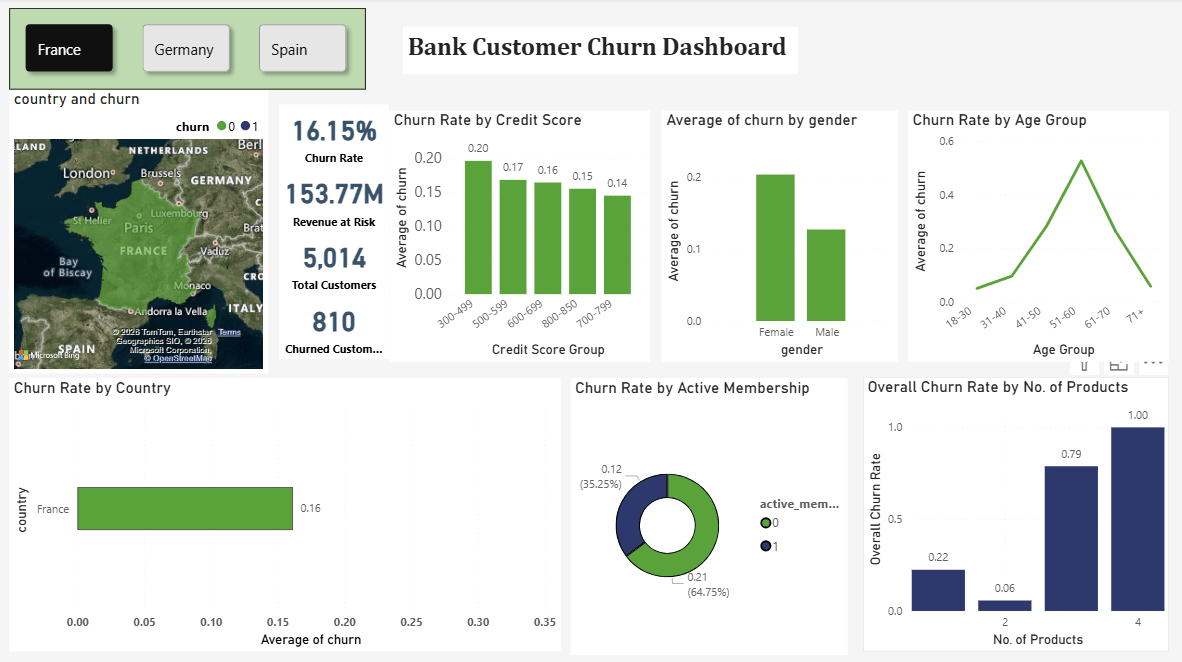

Layout of this report page (visuals, bound fields, positions):
{"tool":"powerbi","page":{"name":"Page 1","canvas":[1280,720],"ordinal":0},"visuals":[{"type":"clusteredBarChart","title":"Churn Rate by Country","fields":{"Category":["BC_Customers.country"],"Y":["Avg(BC_accounts.churn)"]},"box":[12.1,410.1,594.9,295.4],"z":0},{"type":"clusteredColumnChart","fields":{"Category":["BC_accounts.products_number"],"Y":["BC_accounts.Overall Churn Rate"]},"box":[933.6,408.8,330.5,296.8],"z":1000},{"type":"lineChart","title":"Churn Rate by Age Group","fields":{"Y":["Avg(BC_accounts.churn)"],"Category":["BC_Customers.Age Group"]},"box":[982.1,121.4,282,271.2],"z":2000},{"type":"donutChart","title":"Churn Rate by Active Membership","fields":{"Category":["BC_accounts.active_member"],"Y":["Avg(BC_accounts.churn)"]},"box":[617.9,410.1,299.5,299.5],"z":3000},{"type":"card","fields":{"Values":["BC_accounts.Revenue at Risk"]},"box":[303.5,183.5,118.7,68.8],"z":4000},{"type":"card","fields":{"Values":["BC_Customers.Total Customers"]},"box":[303.5,252.3,118.7,68.8],"z":5000},{"type":"card","fields":{"Values":["BC_accounts.Overall Churn Rate"]},"box":[303.5,114.7,118.7,68.8],"z":6000},{"type":"filledMap","fields":{"Category":["BC_Customers.country"],"Series":["BC_accounts.churn"]},"box":[12.1,98.5,279.3,306.2],"z":7000},{"type":"advancedSlicerVisual","fields":{"Values":["BC_Customers.country"]},"box":[12.1,10.8,384.5,87.7],"z":8000},{"type":"textbox","box":[437.1,31,426.3,51.3],"z":9000},{"type":"card","fields":{"Values":["BC_accounts.Churned Customers"]},"box":[303.5,321.1,118.7,68.8],"z":10000},{"type":"columnChart","fields":{"Category":["BC_Customers.gender"],"Y":["Avg(BC_accounts.churn)"]},"box":[716.4,121.4,255,271.2],"z":11000},{"type":"clusteredColumnChart","title":"Churn Rate by Credit Score","fields":{"Y":["Avg(BC_accounts.churn)"],"Category":["BC_Customers.Credit Score Group"]},"box":[422.3,121.4,282,271.2],"z":12000}]}

Visuals, with their boxes in screenshot pixels (x1, y1, x2, y2), scaled from the page's 1280x720 canvas onto the 1182x662 screenshot:
"Churn Rate by Country" clusteredBarChart: locate(11, 377, 561, 649)
clusteredColumnChart - BC_accounts.products_number x BC_accounts.Overall Churn Rate: locate(862, 376, 1167, 649)
"Churn Rate by Age Group" lineChart: locate(907, 112, 1167, 361)
"Churn Rate by Active Membership" donutChart: locate(571, 377, 847, 652)
card - BC_accounts.Revenue at Risk: locate(280, 169, 390, 232)
card - BC_Customers.Total Customers: locate(280, 232, 390, 295)
card - BC_accounts.Overall Churn Rate: locate(280, 105, 390, 169)
filledMap - BC_Customers.country x BC_accounts.churn: locate(11, 91, 269, 372)
advancedSlicerVisual - BC_Customers.country: locate(11, 10, 366, 91)
textbox: locate(404, 29, 797, 76)
card - BC_accounts.Churned Customers: locate(280, 295, 390, 358)
columnChart - BC_Customers.gender x Avg(BC_accounts.churn): locate(662, 112, 897, 361)
"Churn Rate by Credit Score" clusteredColumnChart: locate(390, 112, 650, 361)
